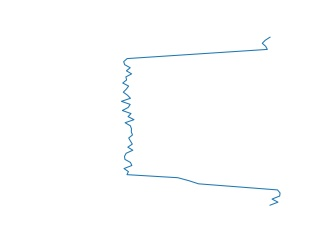distributaryChannelFill: (117, 36, 285, 207)
